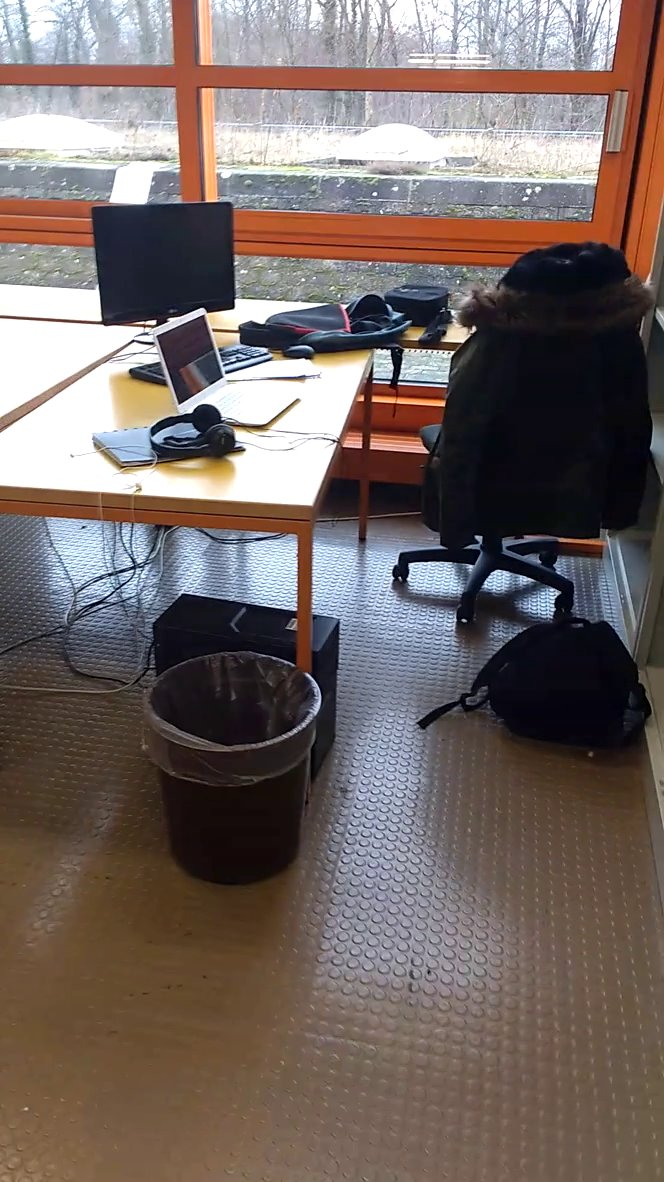bag: (418, 600, 654, 768)
bin: (134, 639, 334, 900)
laptop: (144, 307, 305, 433)
